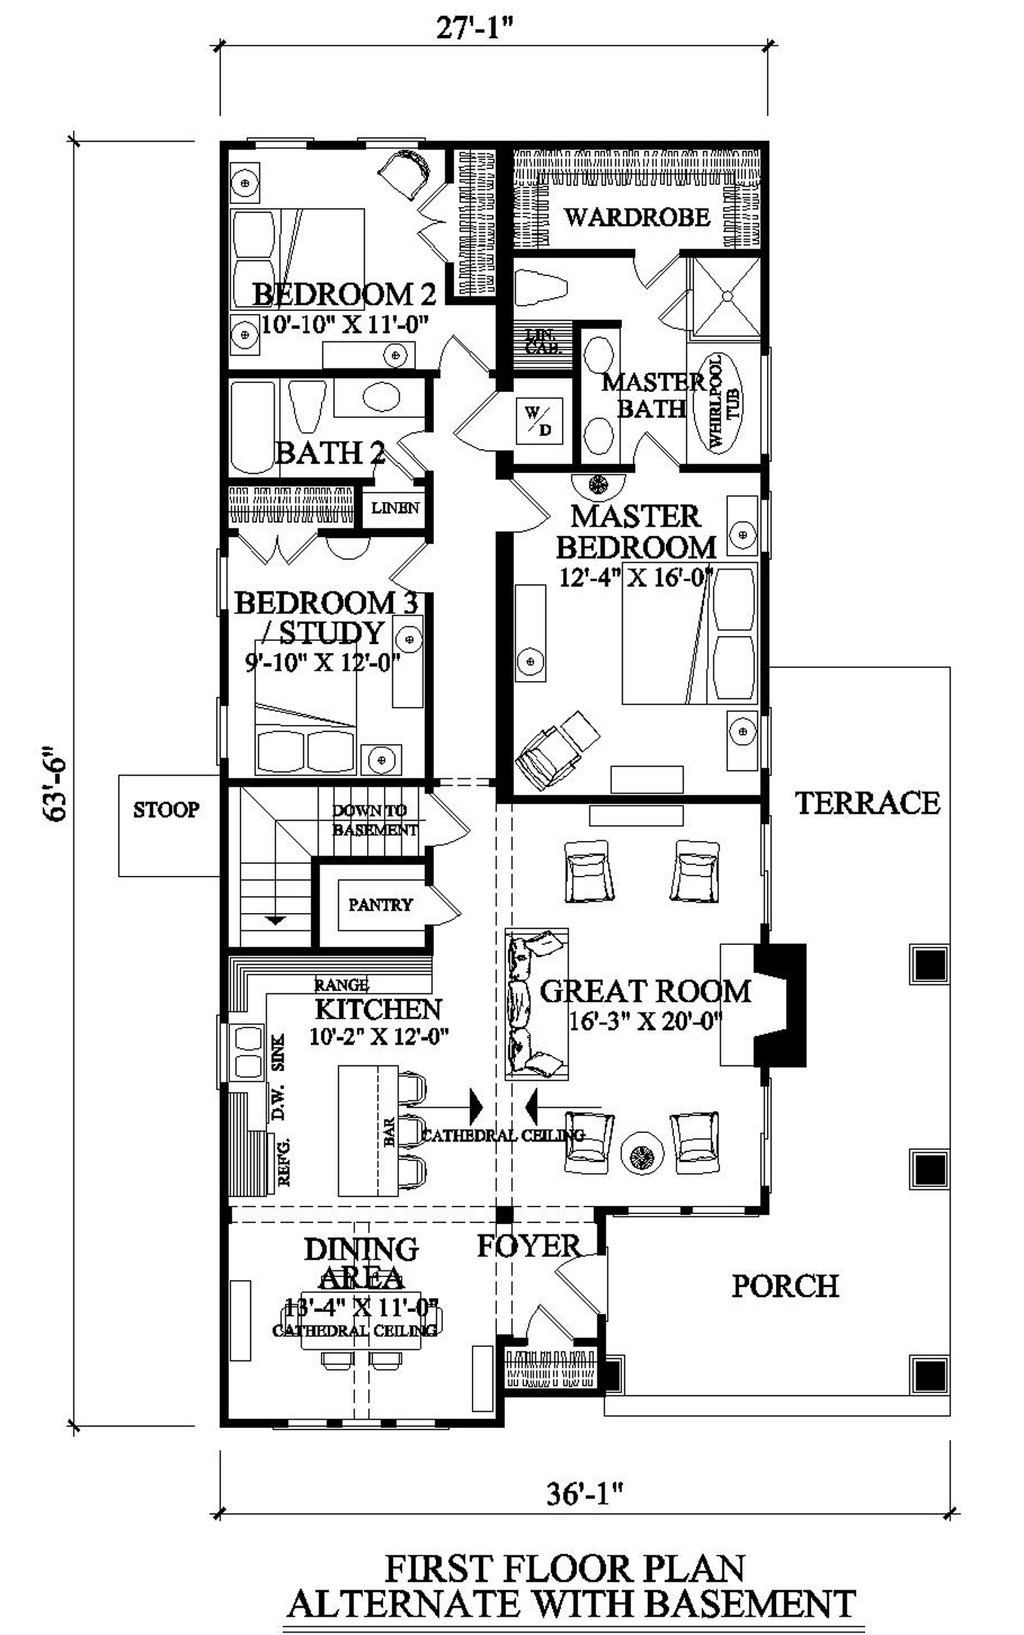bed: (621, 559, 766, 710), (245, 626, 361, 782), (212, 210, 390, 306)
dining_table: (273, 1267, 461, 1367)
door: (403, 769, 479, 874), (222, 516, 314, 572), (553, 1245, 622, 1318), (453, 372, 507, 454), (420, 182, 468, 269), (366, 438, 436, 495), (490, 470, 545, 541), (427, 326, 494, 382), (622, 236, 689, 293), (512, 1300, 573, 1354), (632, 415, 681, 474), (402, 420, 435, 479)
kitchen_bar: (327, 1049, 444, 1210)
large_sink: (491, 244, 586, 320), (281, 372, 335, 438)
large_sofa: (481, 913, 604, 1095)
small_sink: (573, 323, 632, 472)
small_sofa: (550, 843, 731, 905), (654, 1092, 737, 1200), (558, 1115, 621, 1174)
stairs: (219, 784, 409, 948)
tub: (227, 349, 289, 479)
twin_sink: (212, 1013, 281, 1085)
window: (285, 1405, 458, 1433), (609, 1195, 766, 1220), (209, 695, 237, 779), (237, 126, 314, 156), (212, 533, 230, 646), (340, 131, 436, 149)
